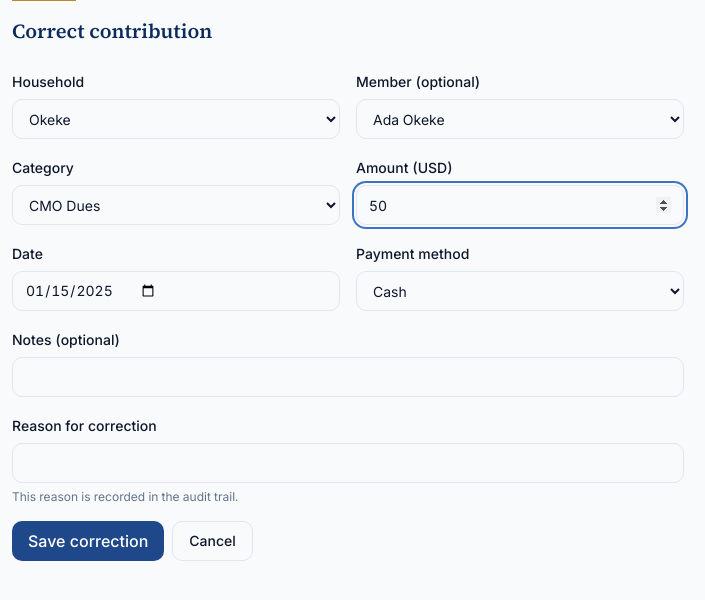
it: ContributionFormPage — edit/correct (story 4.5) › requires a correction reason before saving an edit
Expected: the heading "Correct contribution" is shown, [12,17,212,45]
Step 1. Click the button "Save correction" → (88,541), box [12,521,164,561]
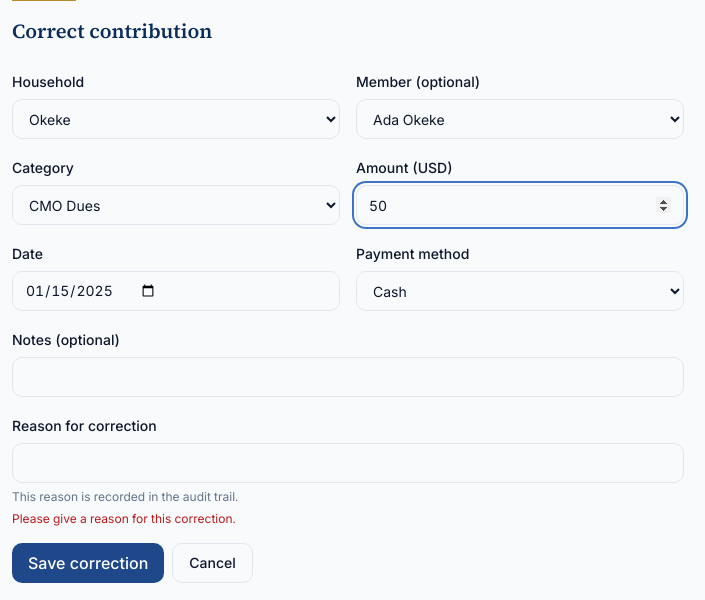
Result: the text "Please give a reason for this correction." is shown at [12,511,236,526]
